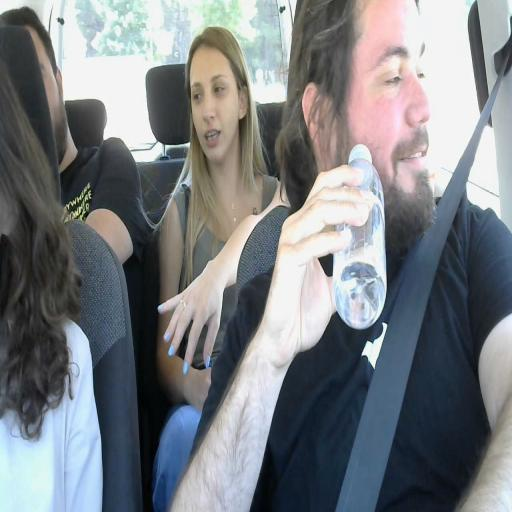Drinking: (300, 0, 435, 333)
